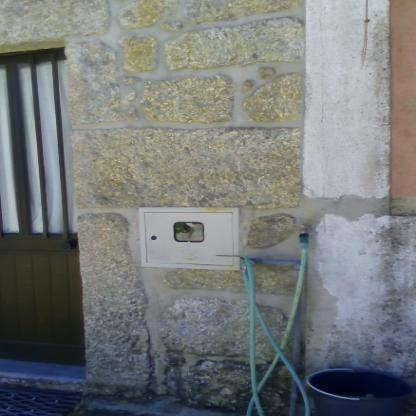door: (0, 51, 87, 367)
knob: (60, 242, 73, 252)
